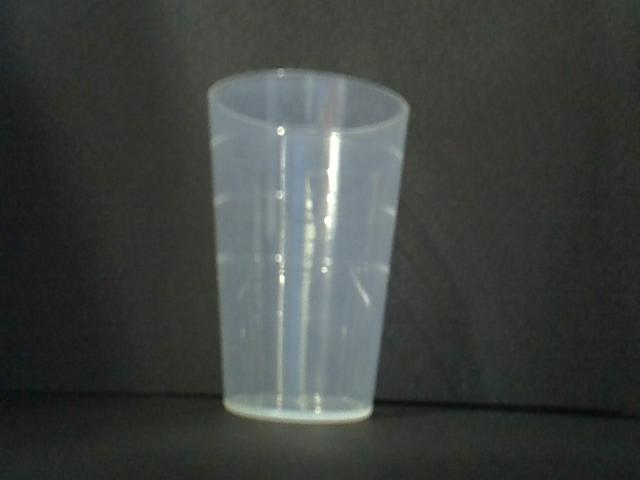cup: (208, 67, 410, 422)
